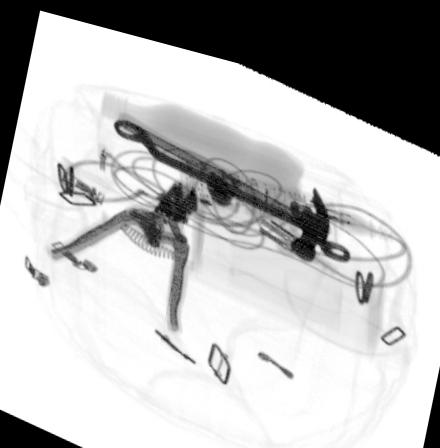Hammer: (113, 106, 328, 248)
Pliers: (46, 167, 198, 326)
Wrench: (109, 116, 350, 244)
